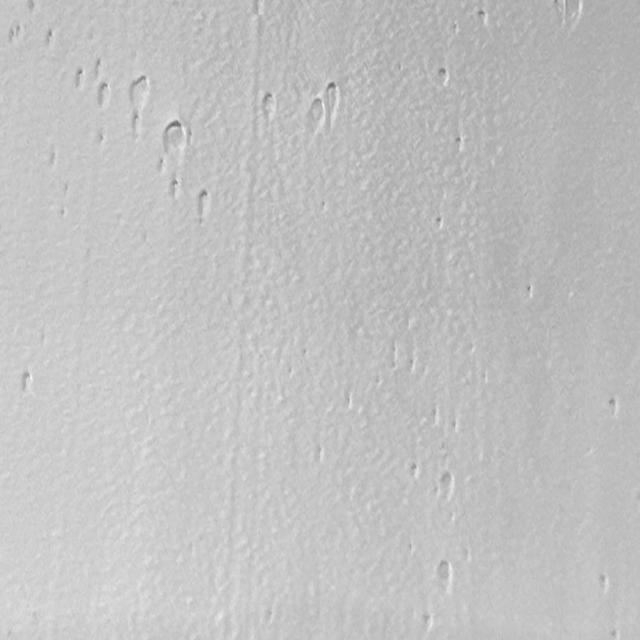pin holes: (160, 121, 190, 162), (550, 0, 586, 32), (320, 83, 345, 121), (304, 95, 328, 128), (433, 560, 456, 594), (128, 74, 151, 108), (436, 470, 458, 503), (259, 90, 280, 120), (16, 368, 36, 396), (196, 188, 213, 220), (418, 610, 438, 636), (603, 394, 622, 420), (594, 571, 613, 596), (96, 82, 112, 109), (474, 5, 492, 29), (167, 178, 182, 204), (436, 64, 452, 88), (407, 459, 423, 483), (45, 149, 61, 173), (9, 22, 26, 42), (44, 29, 57, 51), (76, 65, 87, 88), (252, 0, 266, 18), (522, 284, 535, 303), (433, 215, 447, 232), (452, 134, 465, 152), (96, 130, 108, 148), (94, 56, 104, 76), (449, 20, 460, 38), (26, 0, 39, 15), (609, 625, 622, 639), (58, 205, 68, 221)
